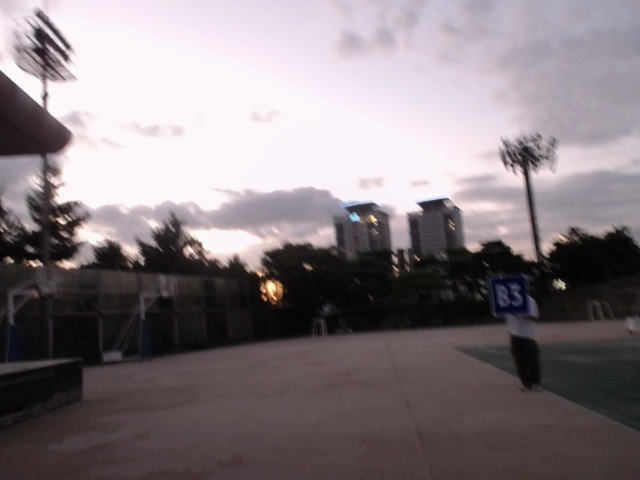delivery_b3: (490, 275, 529, 316)
